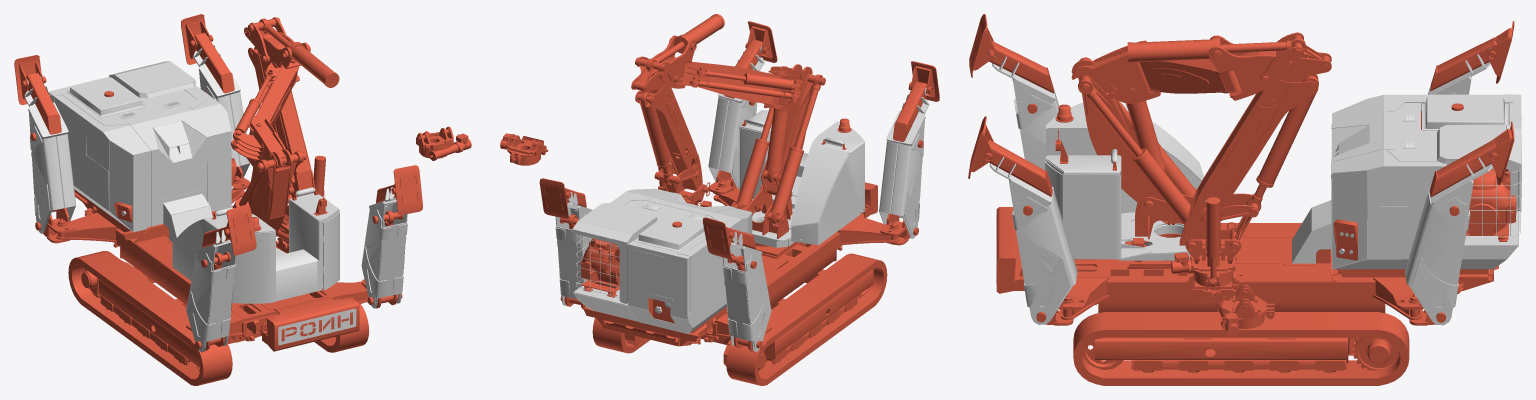
Rendered from РОИН Р-300 v3.fbx.
3 renders of one model, left to right at view 1: azimuth 30°, elevation 25°; view 2: azimuth 150°, elevation 25°; view 3: azimuth 270°, elevation 25°, orthographic. The views are drawn at different scales.
Parts seen in each view (by area): view 1: Ходовая робота, Основание, Гусеница правая, Нога корпус ЗП, Нога корпус ПП, Нога корпус ПЛ, Нога корпус ЗЛ, Соединение 1, Соединение 6, Соединение 2, Соединение 3, Ступня ПЛ (+11 smaller); view 2: Ходовая робота, Основание, Гусеница правая, Нога корпус ПП, Нога корпус ЗП, Нога корпус ПЛ, Соединение 6, Нога корпус ЗЛ, Соединение 3, Соединение 1, Соединение 1 цилиндр, Роллер 2 (+19 smaller); view 3: Ходовая робота, Гусеница левая, Основание, Нога корпус ЗЛ, Нога корпус ПЛ, Соединение 6, Нога корпус ПП, Соединение 1, Соединение 3, Соединение 2, Соединение 4, Нога корпус ЗП (+22 smaller).
Part boxes in pixels (box(x1,y1,x2,y2)): Ходовая робота: box(48, 61, 368, 367); Основание: box(172, 187, 339, 303); Гусеница правая: box(68, 251, 232, 385); Нога корпус ЗП: box(21, 73, 75, 233); Нога корпус ПП: box(186, 227, 236, 352); Нога корпус ПЛ: box(361, 184, 407, 308); Нога корпус ЗЛ: box(189, 32, 250, 177); Соединение 1: box(249, 152, 306, 233); Соединение 6: box(248, 47, 315, 197); Соединение 2: box(232, 119, 292, 169); Соединение 3: box(249, 59, 299, 134); Ступня ПЛ: box(391, 165, 422, 215); Ходовая робота: box(572, 180, 899, 369); Основание: box(731, 110, 864, 247); Гусеница правая: box(726, 253, 887, 385); Нога корпус ПП: box(879, 81, 931, 238); Нога корпус ЗП: box(722, 227, 771, 351); Нога корпус ПЛ: box(708, 39, 767, 188); Соединение 6: box(635, 84, 702, 190); Нога корпус ЗЛ: box(555, 188, 592, 307); Соединение 3: box(682, 61, 783, 106); Соединение 1: box(761, 74, 825, 195); Соединение 1 цилиндр: box(765, 107, 789, 183); Роллер 2: box(500, 133, 548, 165); Ходовая робота: box(996, 94, 1521, 372); Гусеница левая: box(1073, 312, 1409, 385); Основание: box(1045, 102, 1206, 262); Нога корпус ЗЛ: box(1404, 139, 1498, 325); Нога корпус ПЛ: box(985, 139, 1077, 324); Соединение 6: box(1186, 74, 1318, 241); Нога корпус ПП: box(988, 40, 1058, 169); Соединение 1: box(1080, 57, 1167, 204); Соединение 3: box(1139, 59, 1240, 93); Соединение 2: box(1071, 40, 1160, 103); Соединение 4: box(1208, 35, 1295, 100); Нога корпус ЗП: box(1428, 37, 1499, 94).
Size of the model in its own units: 321 by 239 by 354.
